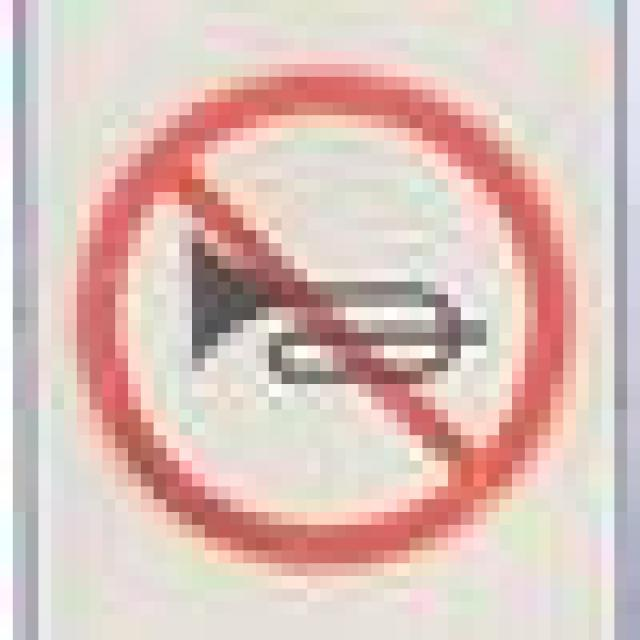horn prohibited: (65, 54, 576, 572)
